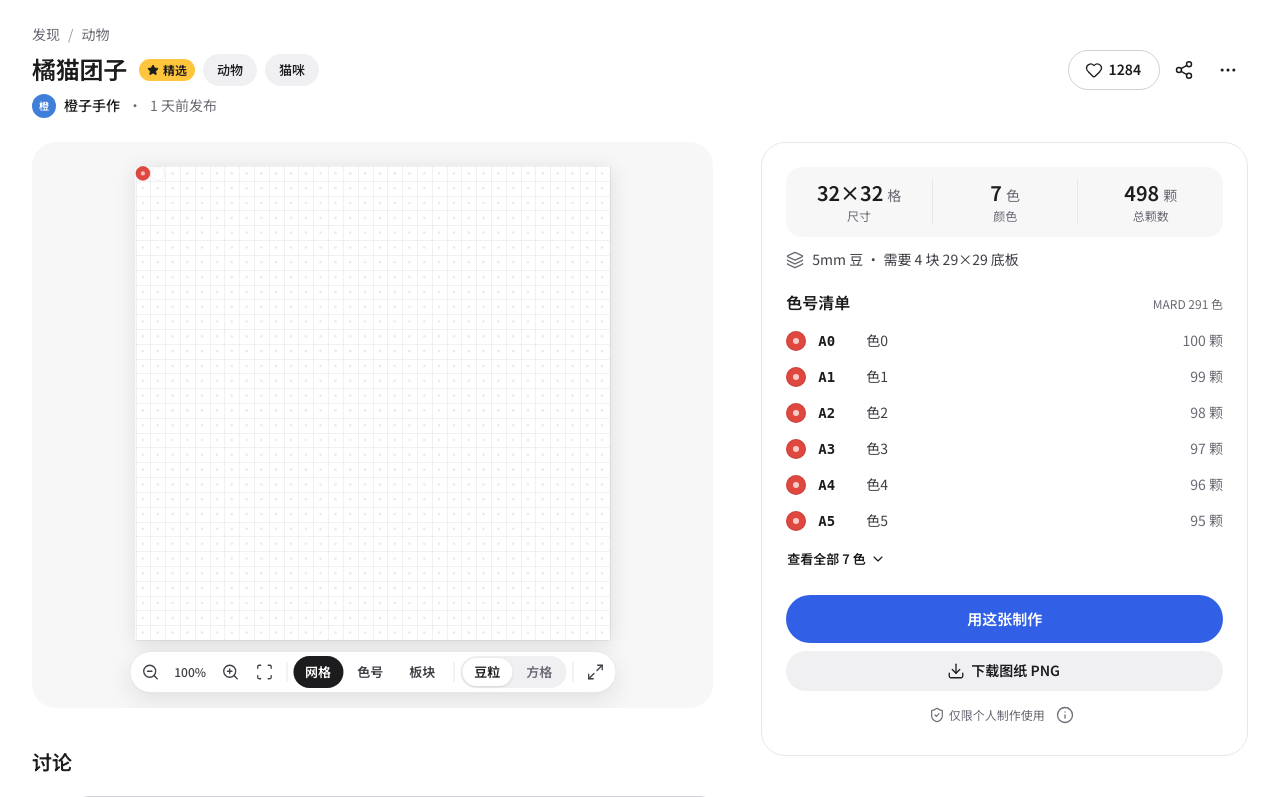
Test case: 登录后：标题行、面包屑、制作卡与色号清单；评论按最新在前请求
Expected: the heading "橘猫团子" is shown, [32, 54, 127, 86]
Expected: the text "精选" is shown, [139, 59, 195, 81]
Click the button "用这张制作": (1005, 619) [786, 595, 1223, 643]
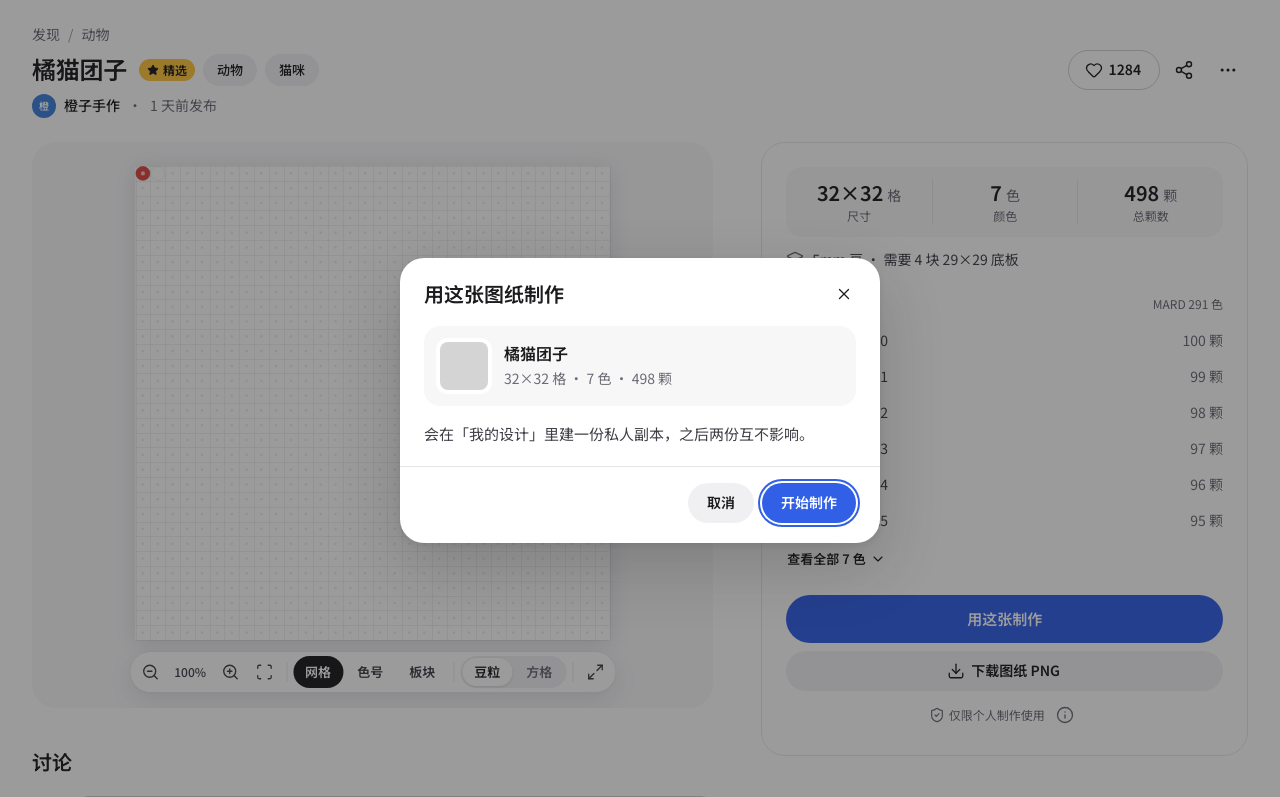
Result: the heading "用这张图纸制作" is shown at [424, 282, 564, 306]
Result: the text "32×32 格 · 7 色 · 498 颗" is shown at [504, 370, 672, 386]
